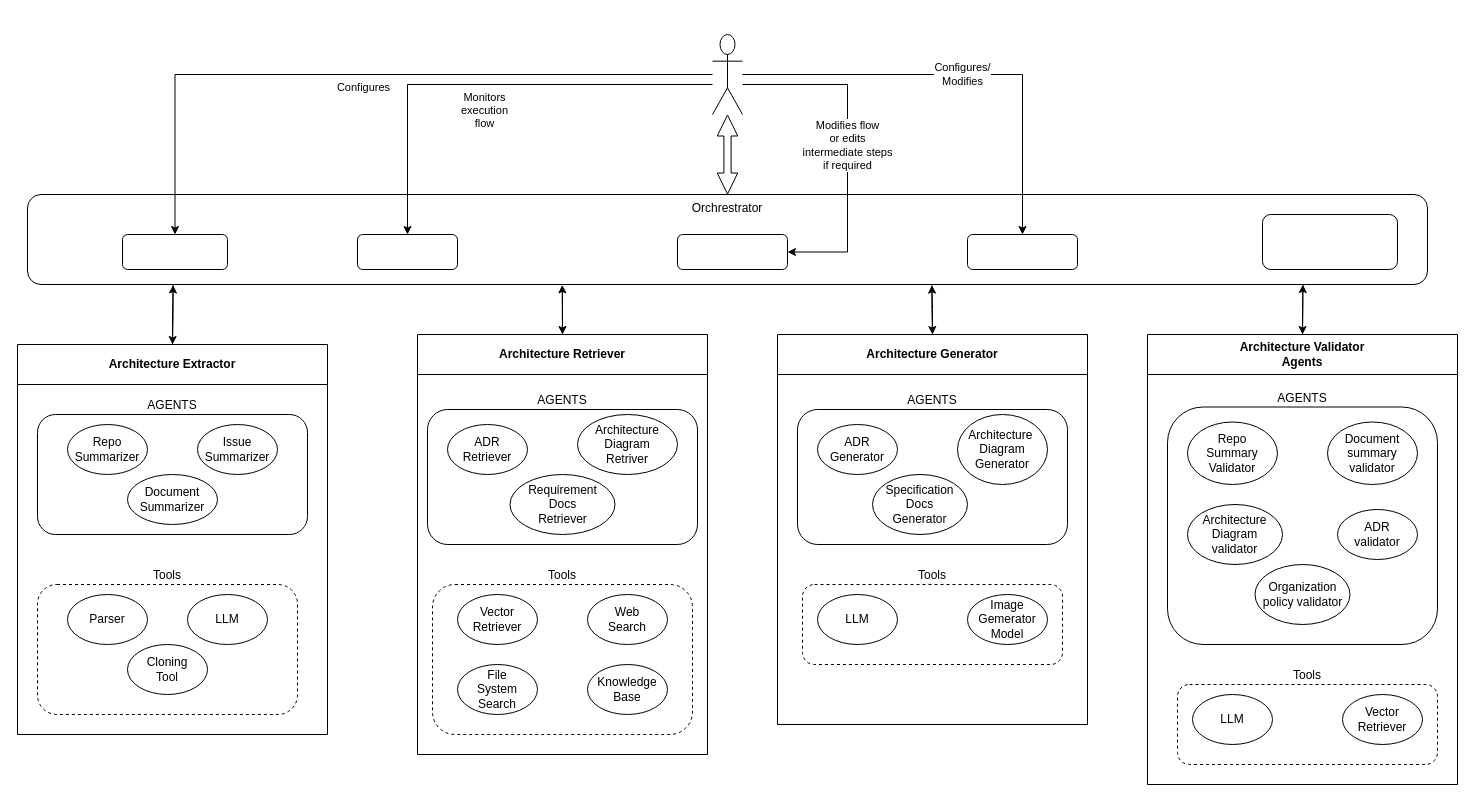
The diagram is 1475 pixels wide and 802 high, and some of its shapes have lost their labels. Each missing label, with the centre of its shape:
"API to interact with external Agent/ Agentic Framework" goes at point (1330, 242).
"Architect" goes at point (727, 74).
"Guardrails" goes at point (1022, 252).
"Interaction Manager" goes at point (732, 252).
"Monitor" goes at point (407, 252).
"Router" goes at point (175, 252).
